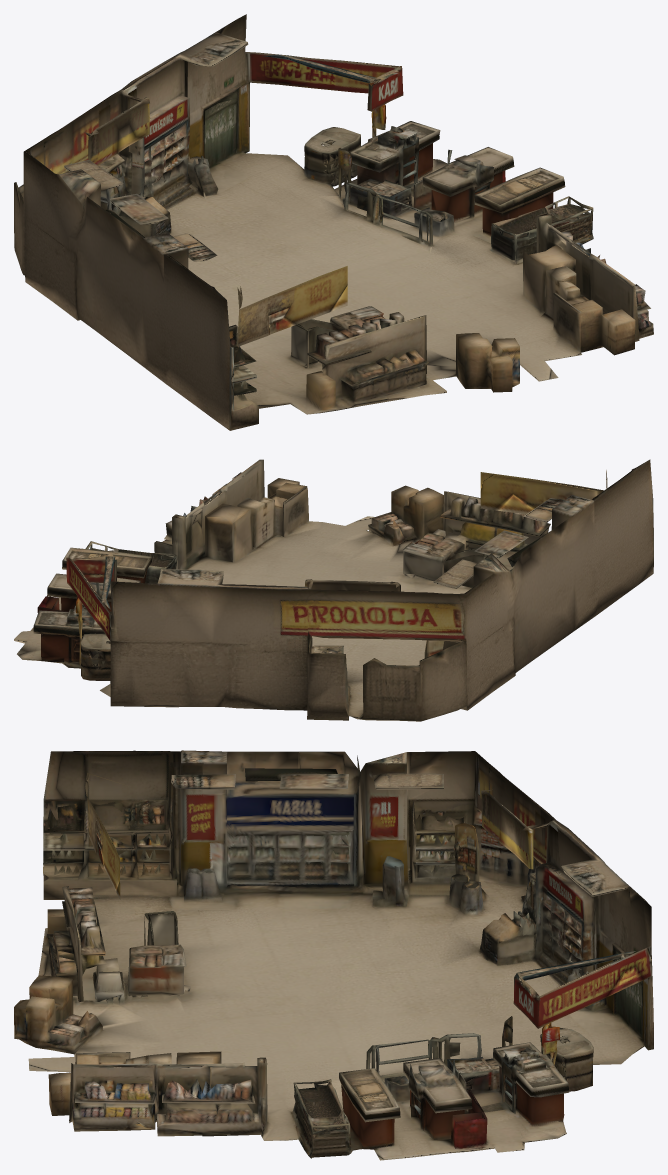
Rendered from arena-Brwpcsua.glb.
3 views of the same model, one above another, from view 1: azimuth 30°, elevation 25°; view 2: azimuth 150°, elevation 25°; view 3: azimuth 270°, elevation 25° (orthographic). The views are drawn at different scales.
Visible parts, largest first — view 1: tripo_node_63f12bca-c271-49f4-a23e-16f35e8523d7; view 2: tripo_node_63f12bca-c271-49f4-a23e-16f35e8523d7; view 3: tripo_node_63f12bca-c271-49f4-a23e-16f35e8523d7.
Part boxes in pixels (bbox=[...]): tripo_node_63f12bca-c271-49f4-a23e-16f35e8523d7: bbox=[14, 14, 653, 430]; tripo_node_63f12bca-c271-49f4-a23e-16f35e8523d7: bbox=[14, 459, 653, 721]; tripo_node_63f12bca-c271-49f4-a23e-16f35e8523d7: bbox=[14, 750, 653, 1160].
Bounding box in the file's own units: 0.9327 × 0.2772 × 1.
Materials: 1 (1 with a texture image).
